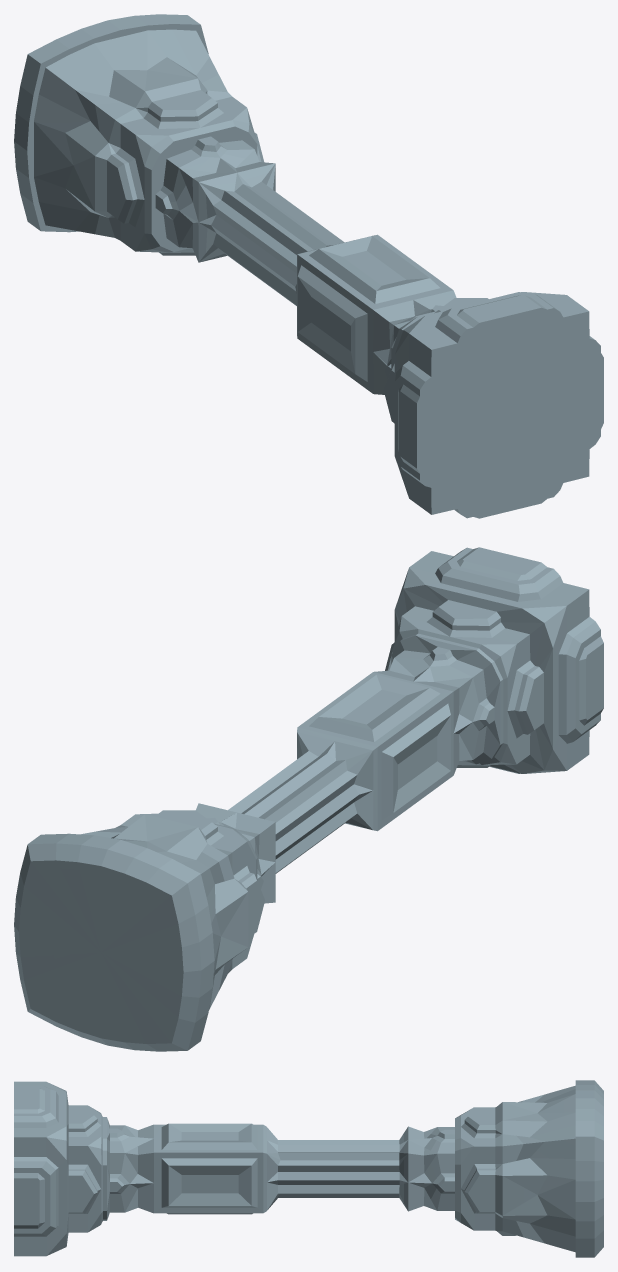
File: column.FBX
The picture shows the model from 3 angles, top to bottom: view 1: azimuth 30°, elevation 25°; view 2: azimuth 150°, elevation 25°; view 3: azimuth 270°, elevation 25°; orthographic projection. The views are drawn at different scales.
Visible parts, largest first — view 1: column; view 2: column; view 3: column.
Part boxes in pixels (<box>): column: <box>14,14,603,518</box>; column: <box>14,547,603,1051</box>; column: <box>14,1080,603,1257</box>.
Size of the model in its own units: 78.02 by 78.02 by 295.
